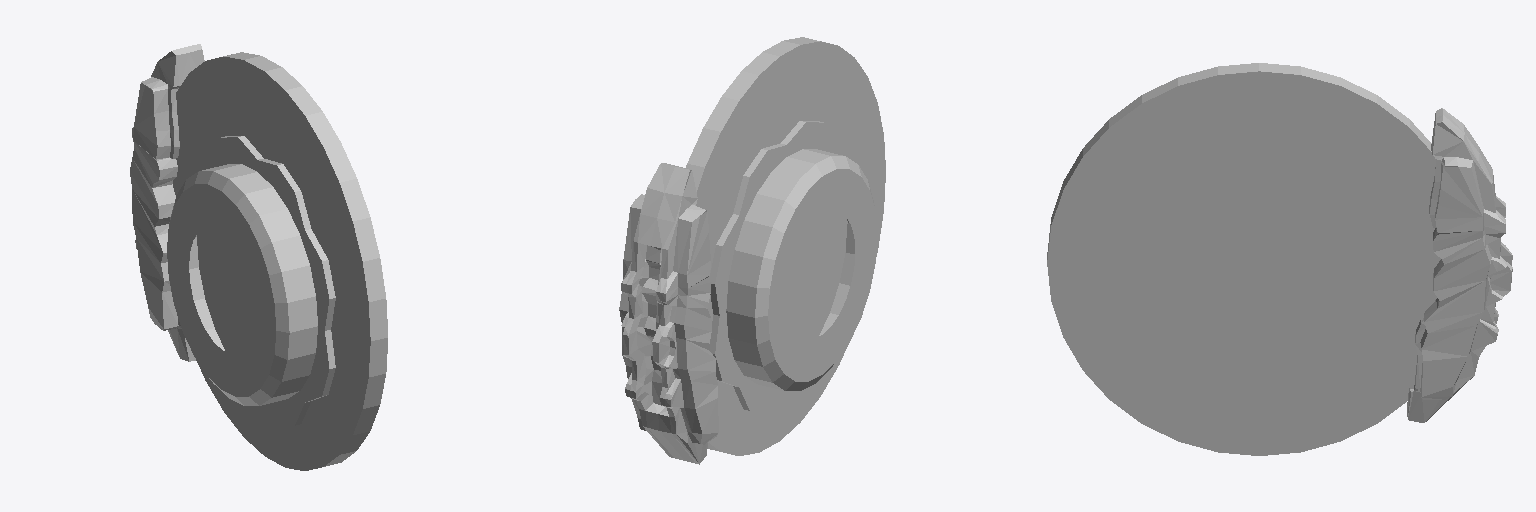
Rendered from FN_brake.obj.
The picture shows the model from 3 angles: view 1: azimuth 30°, elevation 25°; view 2: azimuth 150°, elevation 25°; view 3: azimuth 270°, elevation 25°; orthographic projection.
Size of the model in its own units: 0.0798 by 0.3291 by 0.361.